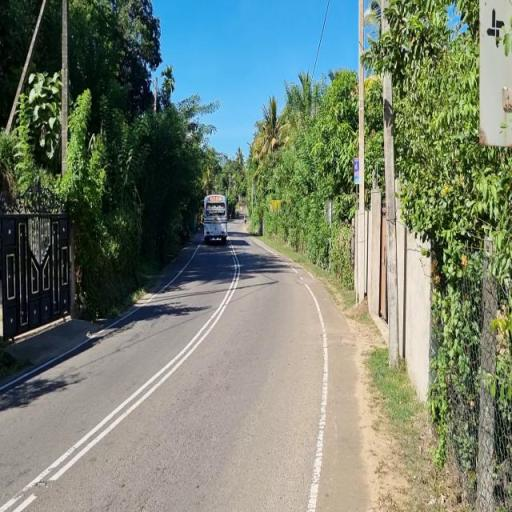double_white_line: (0, 243, 242, 510)
